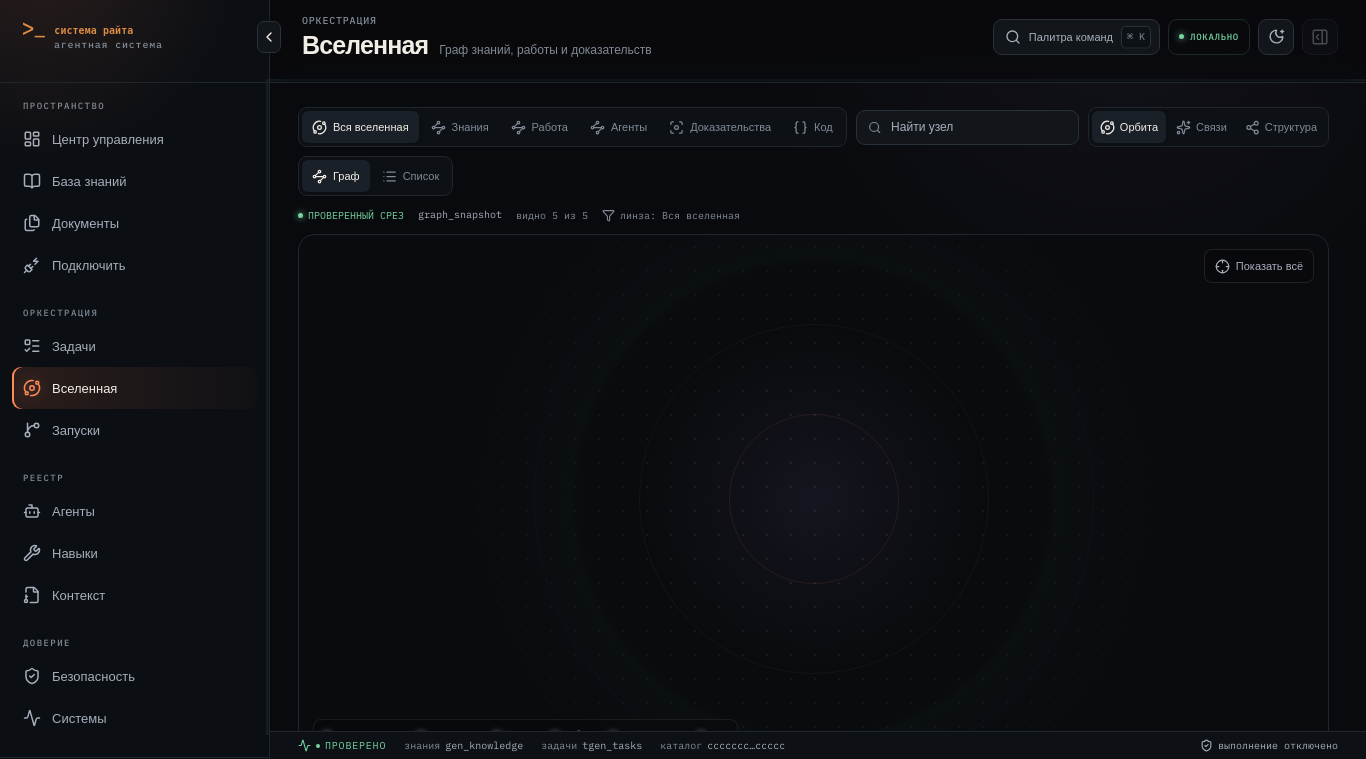
raytsystem control plane › announces the bounded reduced-motion force pass instead of showing continuous movement
Step 1. Click the button with aria-label "Связи — интерактивный граф отношений" → (1201, 127), box [1168,111,1235,143]
(page scrolled)
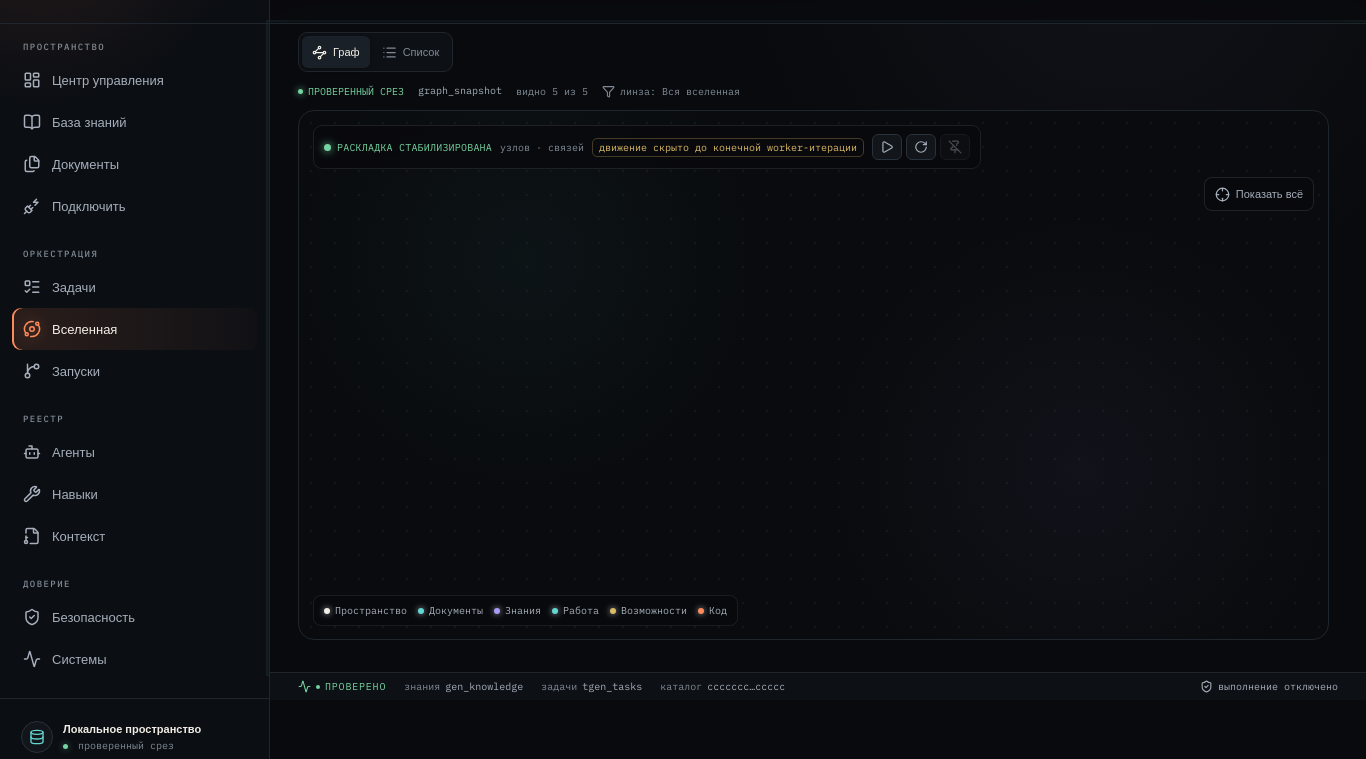
Expected: the text "движение скрыто до конечной worker-итерации" is shown, [592,138,864,156]
